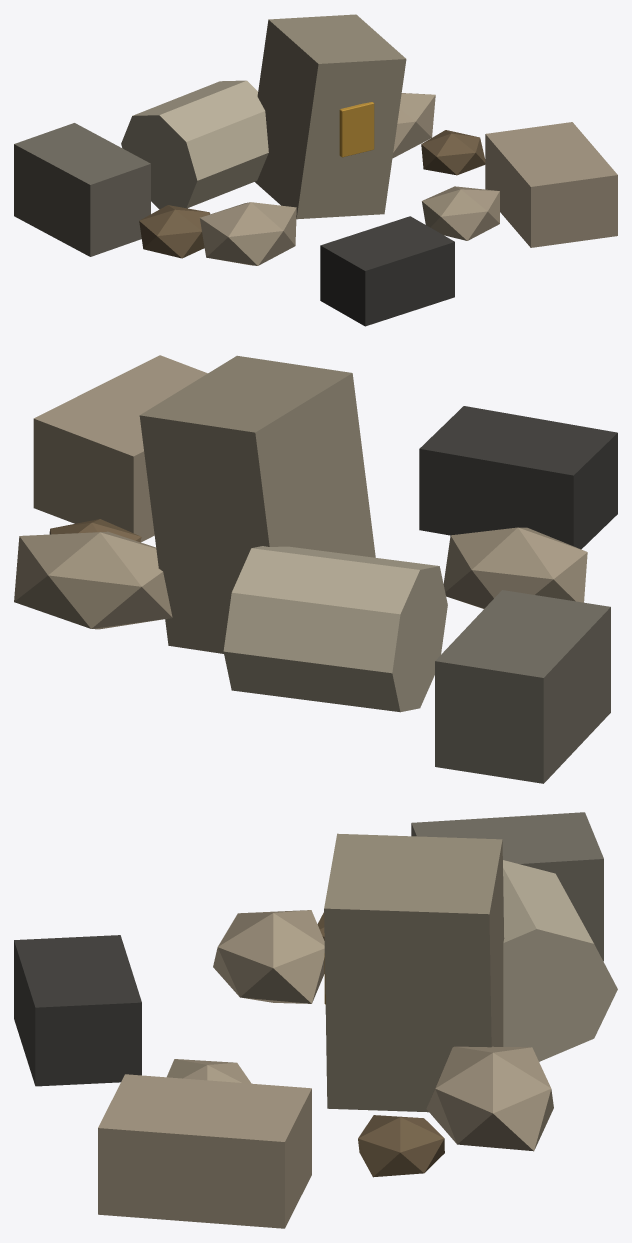
3 renders of one model, top to bottom at view 1: azimuth 30°, elevation 25°; view 2: azimuth 150°, elevation 25°; view 3: azimuth 270°, elevation 25°, orthographic. The views are drawn at different scales.
Visible parts, largest first — view 1: WK_Stone_A12_RuinRubble_Masonry3m_LOD1; view 2: WK_Stone_A12_RuinRubble_Masonry3m_LOD1; view 3: WK_Stone_A12_RuinRubble_Masonry3m_LOD1.
Part boxes in pixels (bbox=[...]): WK_Stone_A12_RuinRubble_Masonry3m_LOD1: bbox=[14, 14, 617, 326]; WK_Stone_A12_RuinRubble_Masonry3m_LOD1: bbox=[14, 355, 617, 783]; WK_Stone_A12_RuinRubble_Masonry3m_LOD1: bbox=[14, 812, 617, 1228].
Bounding box in the file's own units: 3.2 × 1.1 × 2.6.
